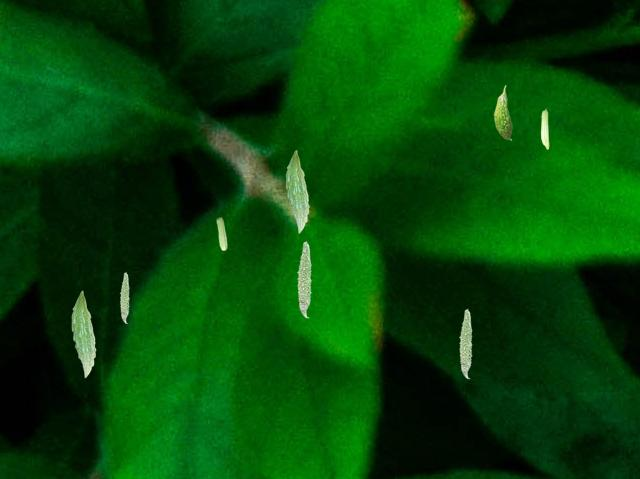ampalaya: (71, 290, 96, 378), (285, 150, 309, 233), (296, 240, 312, 318), (493, 85, 512, 140), (458, 308, 472, 379), (119, 271, 129, 324), (540, 108, 549, 149), (216, 217, 227, 250)
